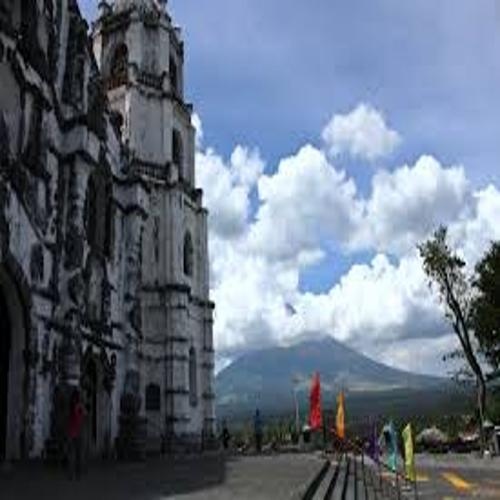Daraga Church: (5, 1, 220, 461)
